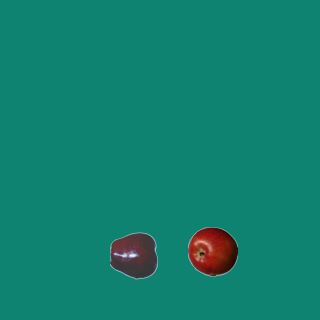Apple Braeburn: (187, 226, 237, 276)
Apple Red Delicious: (109, 230, 159, 280)
